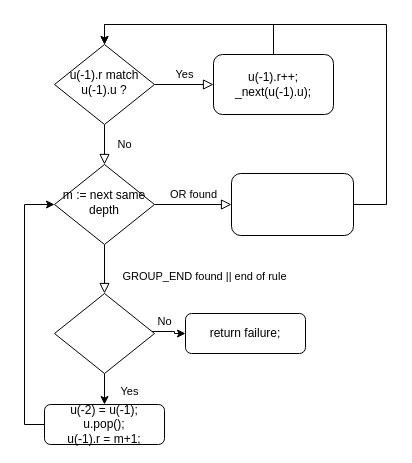
Some shapes in this 412 by 463 pixel diagram are drawn without their labels. Here are the shapes that lost their labels. From the top down, the box of each, then its label:
(230, 172, 354, 236): u(-2).r = u(-1).r = m; u(-1).u = u(-2).u;
(54, 292, 154, 374): u.len() > 2
